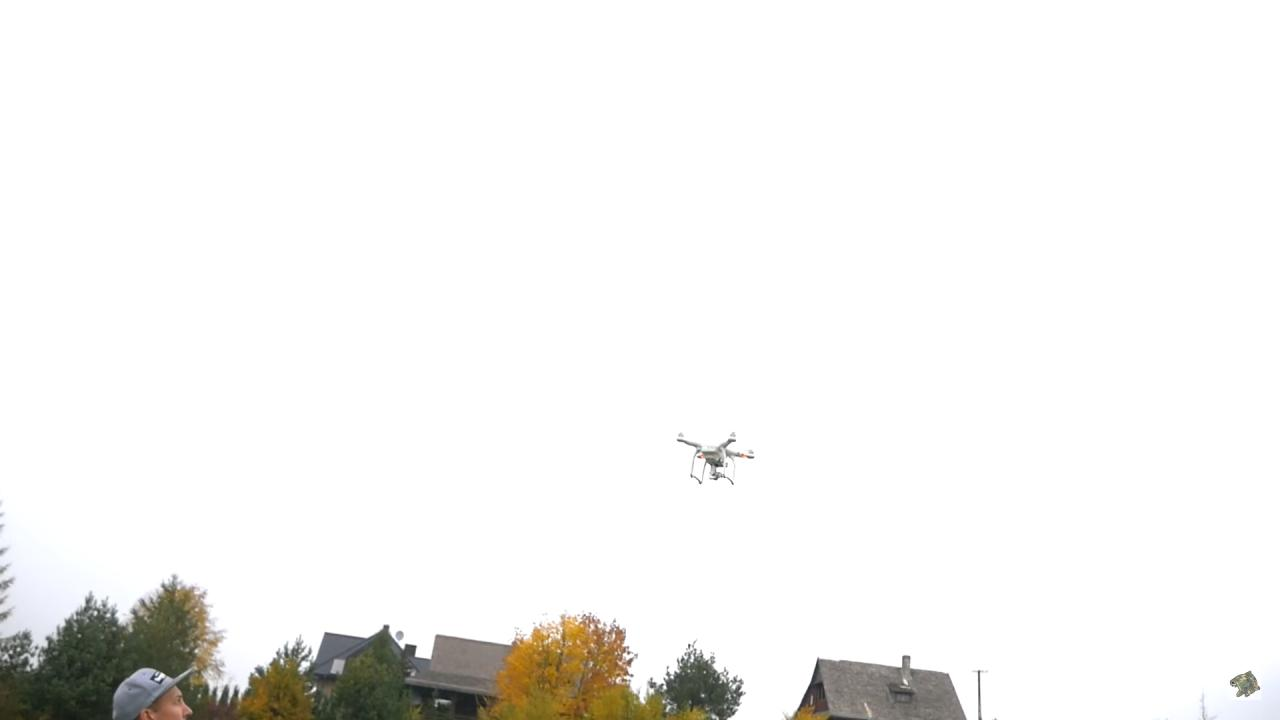Drone: (667, 423, 764, 494)
